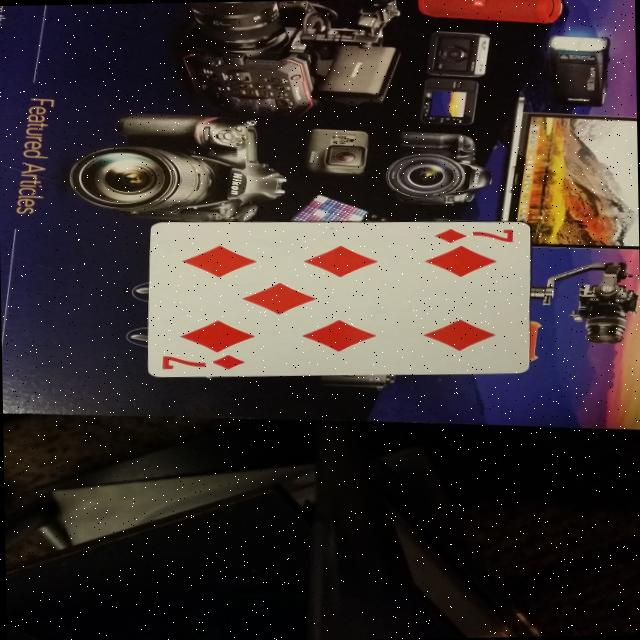7d: (150, 344, 256, 376), (425, 220, 522, 253)
